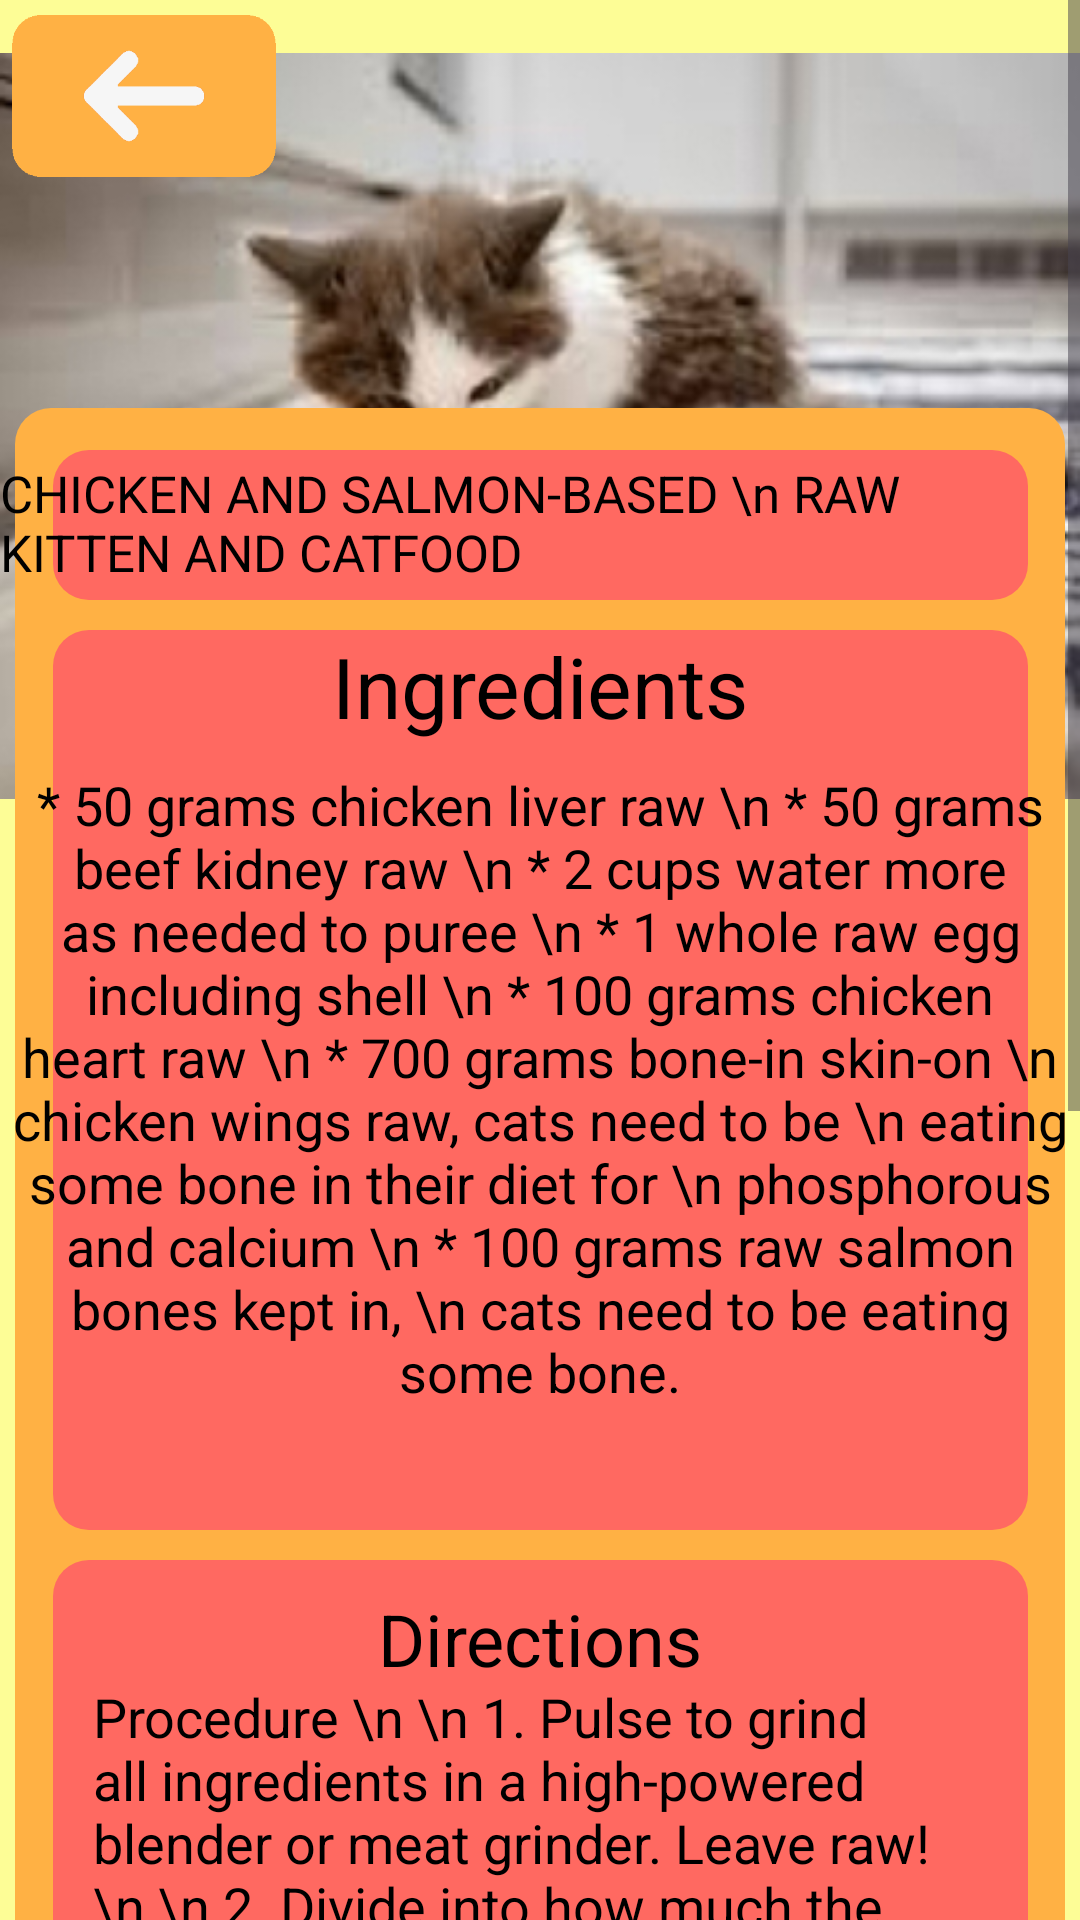

Icons on this 1080px x 1920px Android screen, each with the point to tap as point (x, y):
backred: point (144, 96)
